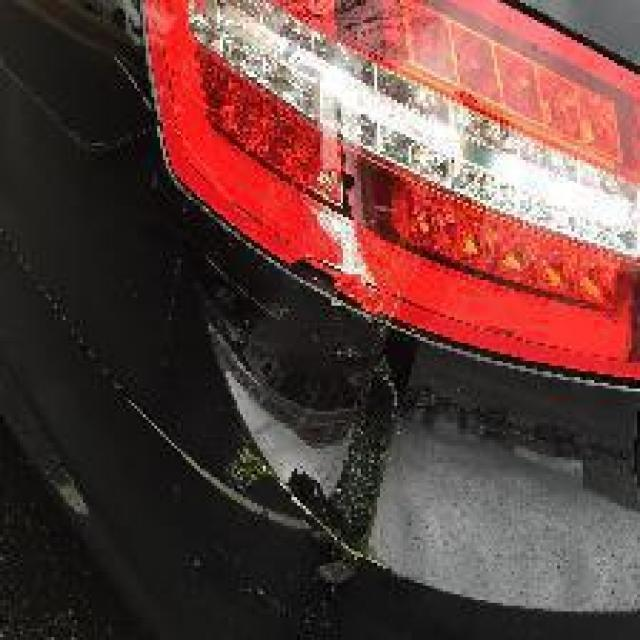damaged: (200, 306, 637, 623), (312, 100, 414, 332)
